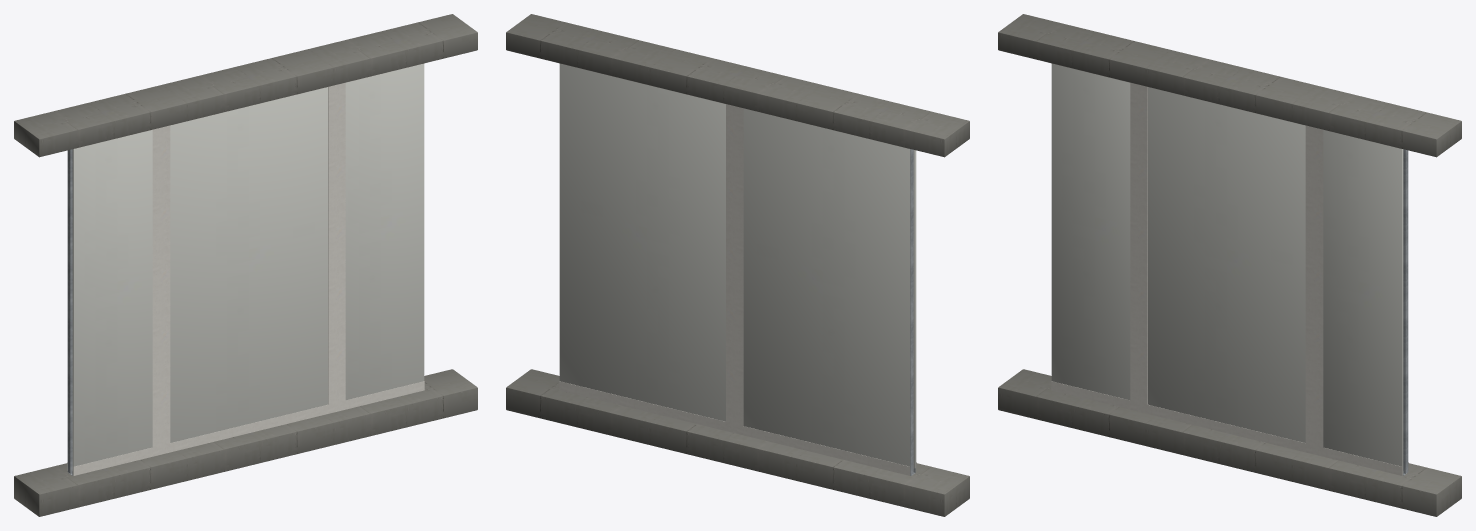
File: KIT-ALV-04_lod1.glb
3 views of the same model, side by side, from view 1: azimuth 30°, elevation 25°; view 2: azimuth 150°, elevation 25°; view 3: azimuth 330°, elevation 25° (orthographic).
Parts seen in each view (by area): view 1: KIT-ALV-04_placaB1, KIT-ALV-04_placaB0, KIT-ALV-04_placaB2, KIT-ALV-04_laje_sup, KIT-ALV-04_laje_inf, KIT-ALV-04_juntaB-0.6, KIT-ALV-04_juntaB0.6, KIT-ALV-04_cantinf-1, KIT-ALV-04_montante0; view 2: KIT-ALV-04_placaA0, KIT-ALV-04_placaA1, KIT-ALV-04_laje_sup, KIT-ALV-04_laje_inf, KIT-ALV-04_juntaA, KIT-ALV-04_cantinf1, KIT-ALV-04_montante0, KIT-ALV-04_placaB0; view 3: KIT-ALV-04_placaB1, KIT-ALV-04_placaB2, KIT-ALV-04_placaB0, KIT-ALV-04_laje_sup, KIT-ALV-04_laje_inf, KIT-ALV-04_juntaB0.6, KIT-ALV-04_juntaB-0.6, KIT-ALV-04_cantinf-1, KIT-ALV-04_montante4.
Part boxes in pixels (x1,y1,x2,y2): KIT-ALV-04_placaB1: (170,87,327,442); KIT-ALV-04_placaB0: (72,130,152,475); KIT-ALV-04_placaB2: (345,64,424,400); KIT-ALV-04_laje_sup: (14,14,477,157); KIT-ALV-04_laje_inf: (14,369,477,516); KIT-ALV-04_juntaB-0.6: (152,125,170,456); KIT-ALV-04_juntaB0.6: (328,82,345,413); KIT-ALV-04_cantinf-1: (73,381,424,475); KIT-ALV-04_montante0: (67,149,72,473); KIT-ALV-04_placaA0: (743,108,910,466); KIT-ALV-04_placaA1: (559,64,725,421); KIT-ALV-04_laje_sup: (506,14,969,157); KIT-ALV-04_laje_inf: (506,369,969,516); KIT-ALV-04_juntaA: (726,104,743,435); KIT-ALV-04_cantinf1: (559,381,910,475); KIT-ALV-04_montante0: (910,149,913,475); KIT-ALV-04_placaB0: (913,150,916,471); KIT-ALV-04_placaB1: (1148,87,1305,442); KIT-ALV-04_placaB2: (1323,130,1403,475); KIT-ALV-04_placaB0: (1051,64,1130,400); KIT-ALV-04_laje_sup: (998,14,1461,157); KIT-ALV-04_laje_inf: (998,369,1461,516); KIT-ALV-04_juntaB0.6: (1305,125,1323,456); KIT-ALV-04_juntaB-0.6: (1130,82,1147,413); KIT-ALV-04_cantinf-1: (1051,381,1402,475); KIT-ALV-04_montante4: (1403,149,1408,473).
Size of the model in its own units: 3 by 2.47 by 0.2999.
Materials: 4 (4 with a texture image).
